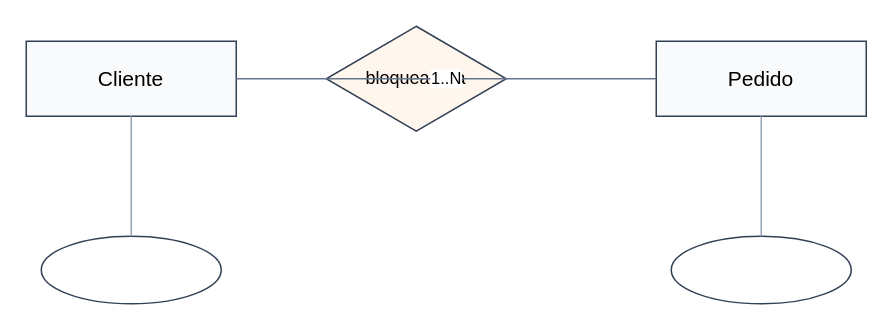
The diagram is 893 pixels wide and 330 high, and some of its shapes have lost their labels. The shapes that lost their labels are listed below. From the top down, each one's centre as x and y in pixels, then its label:
the point at 130,269: id_cliente
the point at 760,269: id_pedido
